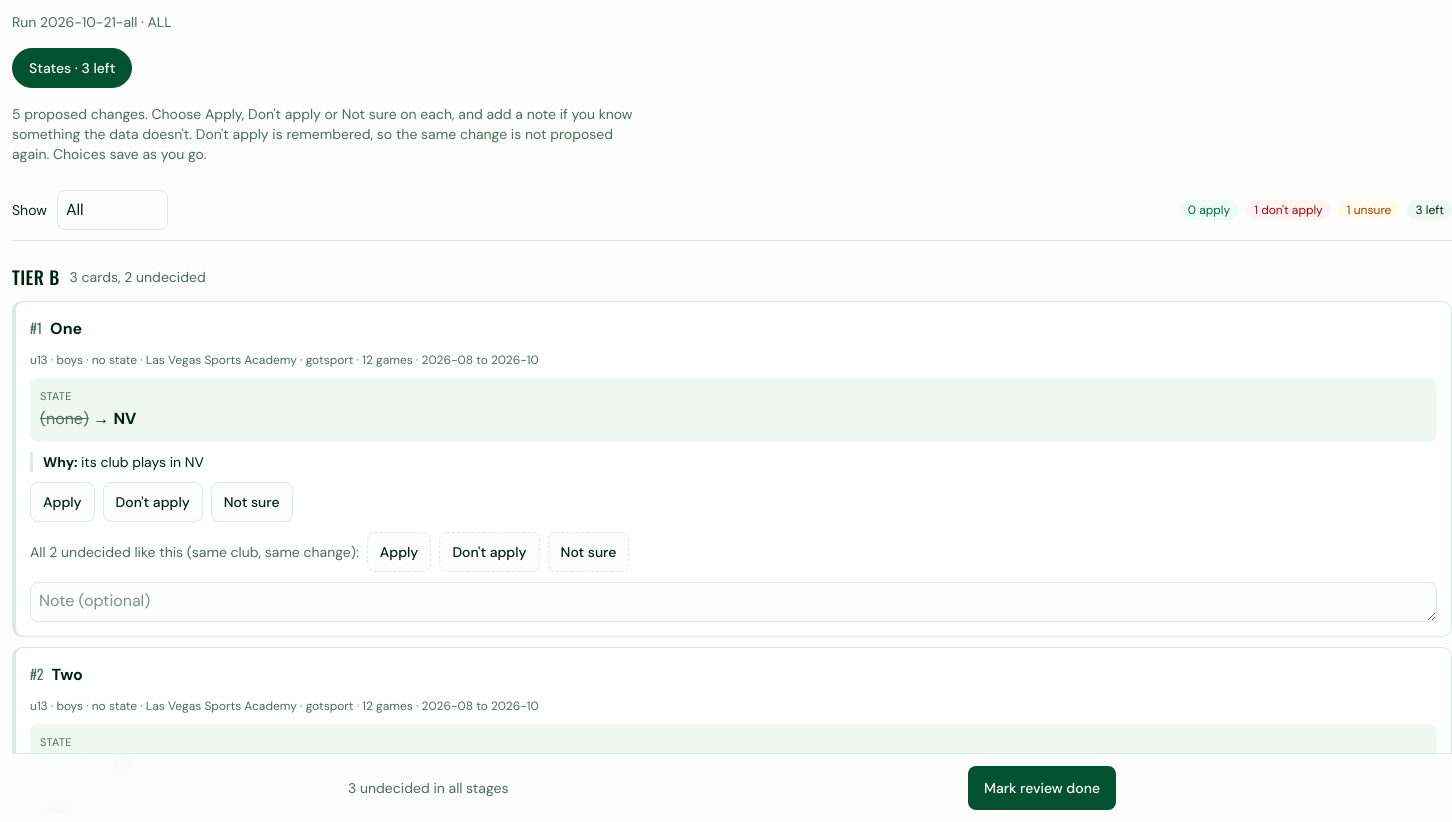
Scenario: the team cleanup review page › puts the choice back and says so when the save is refused
This screenshot has width=1452, height=822.
Click the 1st button "Apply" at (62, 502), box [30,482,95,522]
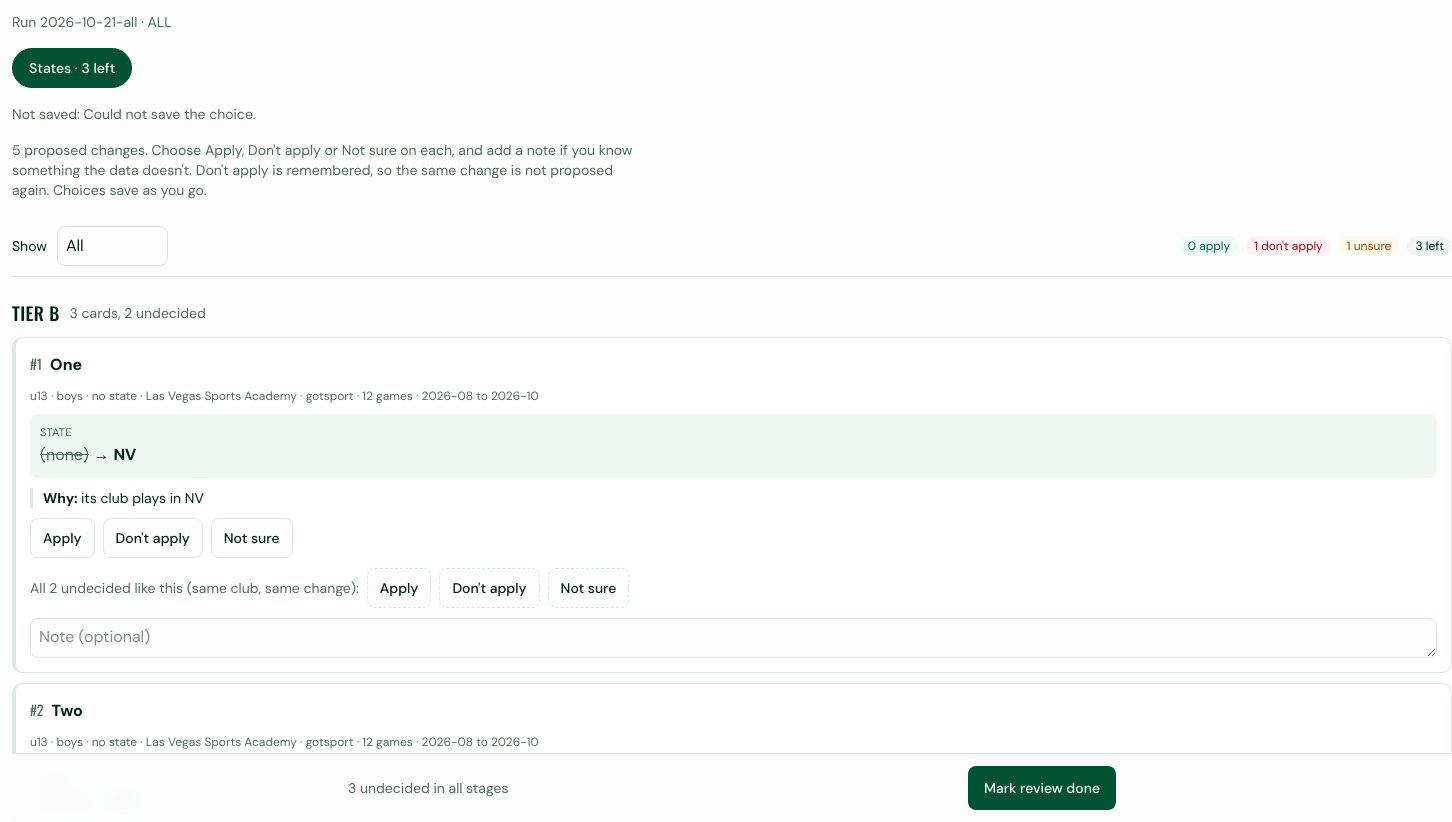
Result: the text "Not saved: Could not save the choice." is shown at [12,105,256,123]
